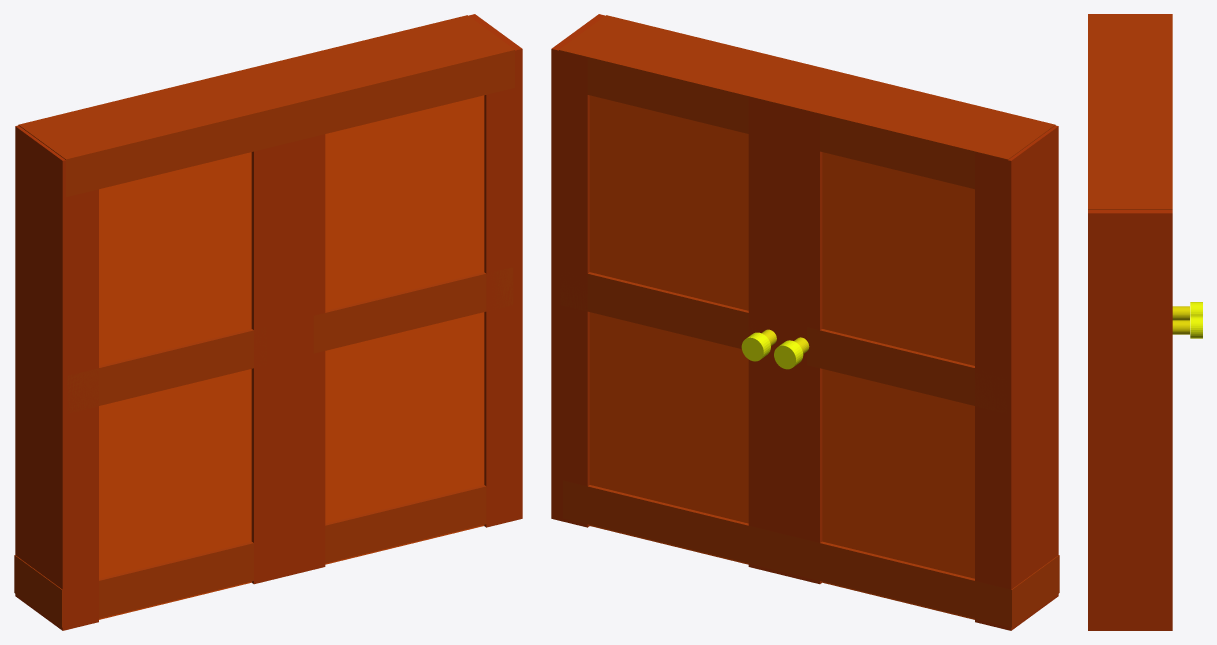
Rendered from door.fbx.
3 views of the same model, side by side, from view 1: azimuth 30°, elevation 25°; view 2: azimuth 150°, elevation 25°; view 3: azimuth 270°, elevation 25° (orthographic). The views are drawn at different scales.
Parts seen in each view (by area): view 1: Cube, Cube.001, Cube.006, Cube.003, Cube.005, Cube.009, Cube.008, Cube.007, Cube.002, Cube.010; view 2: Cube, Cube.001, Cube.003, Cube.006, Cube.007, Cube.005, Cube.009, Cube.008, Cube.010, Cube.002; view 3: Cube.005, Cube.006, Cylinder, Cylinder.001, Cylinder.002.
Boxes of the visible parts, x1,y1,x2,y2 form: Cube: (325,95,484,564); Cube.001: (99,152,251,619); Cube.006: (18,15,514,197); Cube.003: (15,125,98,630); Cube.005: (469,14,522,527); Cube.009: (251,143,289,584); Cube.008: (289,134,325,575); Cube.007: (14,485,486,627); Cube.002: (313,267,513,353); Cube.010: (67,327,266,413); Cube: (589,95,748,564); Cube.001: (822,152,974,619); Cube.003: (975,125,1058,630); Cube.006: (559,15,1055,189); Cube.007: (563,480,1059,627); Cube.005: (551,14,604,527); Cube.009: (784,106,822,584); Cube.008: (748,97,784,575); Cube.010: (807,327,1006,412); Cube.002: (560,272,755,348); Cube.005: (1088,210,1172,630); Cube.006: (1088,14,1172,209); Cylinder: (1190,316,1202,338); Cylinder.001: (1172,320,1189,334); Cylinder.002: (1172,306,1189,320).
Bounding box in the file's own units: 6.15 × 6.01 × 1.5.
